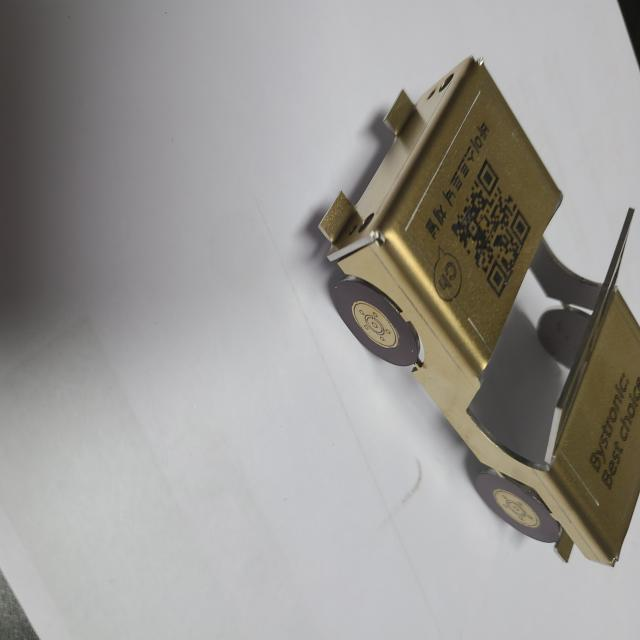tire: (329, 275, 417, 369), (474, 470, 558, 545)
